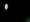person: (11, 3, 17, 15), (5, 3, 11, 14)
